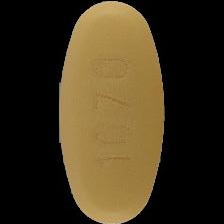13668-070: (0, 0, 224, 224)
